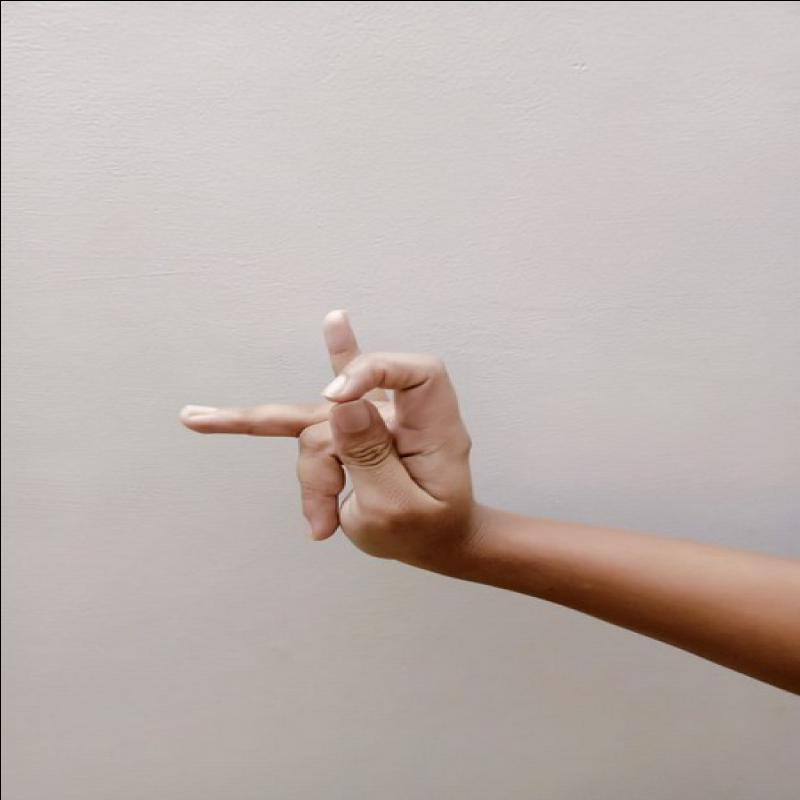Katakam: (164, 297, 491, 581)
